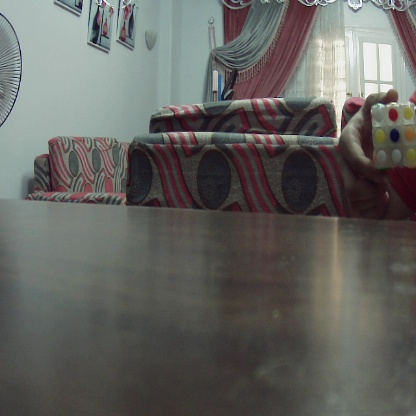Rubix Cube: (372, 103, 416, 168)
